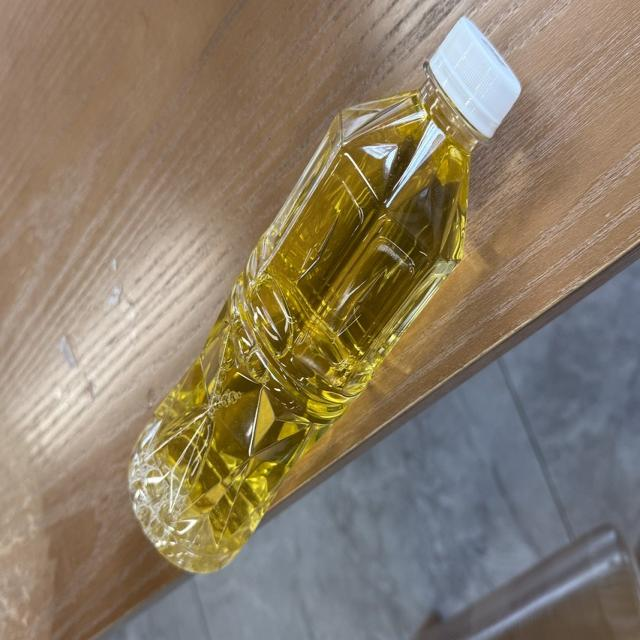high: (129, 17, 520, 571)
